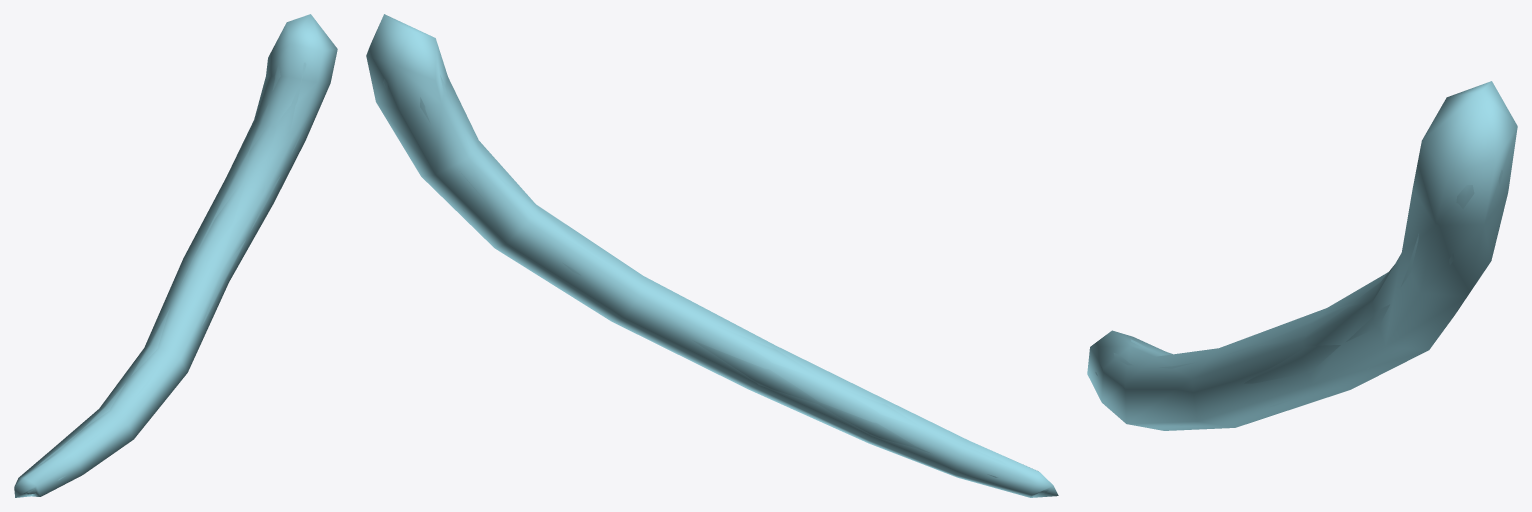
3 renders of one model, left to right at view 1: azimuth 30°, elevation 25°; view 2: azimuth 150°, elevation 25°; view 3: azimuth 270°, elevation 25°, orthographic. The views are drawn at different scales.
Visible parts, largest first — view 1: CC L3 low, CC L3; view 2: CC L3 low, CC L3; view 3: CC L3 low, CC L3.
Part boxes in pixels (x1,y1,x2,y2): CC L3 low: (14, 14, 337, 497); CC L3: (26, 62, 313, 494); CC L3 low: (366, 14, 1058, 497); CC L3: (383, 75, 1048, 493); CC L3 low: (1087, 81, 1517, 430); CC L3: (1095, 169, 1502, 425).
Size of the model in its own units: 1.69 by 1.28 by 0.7694.
